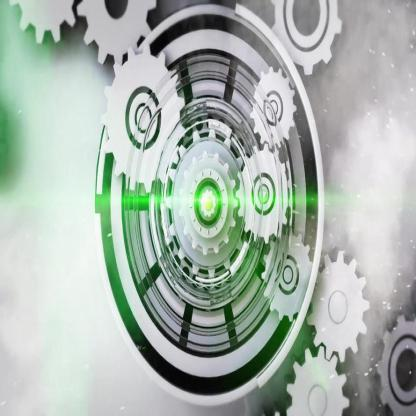FOD: (100, 40, 186, 196), (308, 249, 371, 368), (178, 146, 238, 257), (74, 0, 162, 68), (261, 228, 316, 326), (283, 345, 352, 415), (251, 65, 298, 152)
